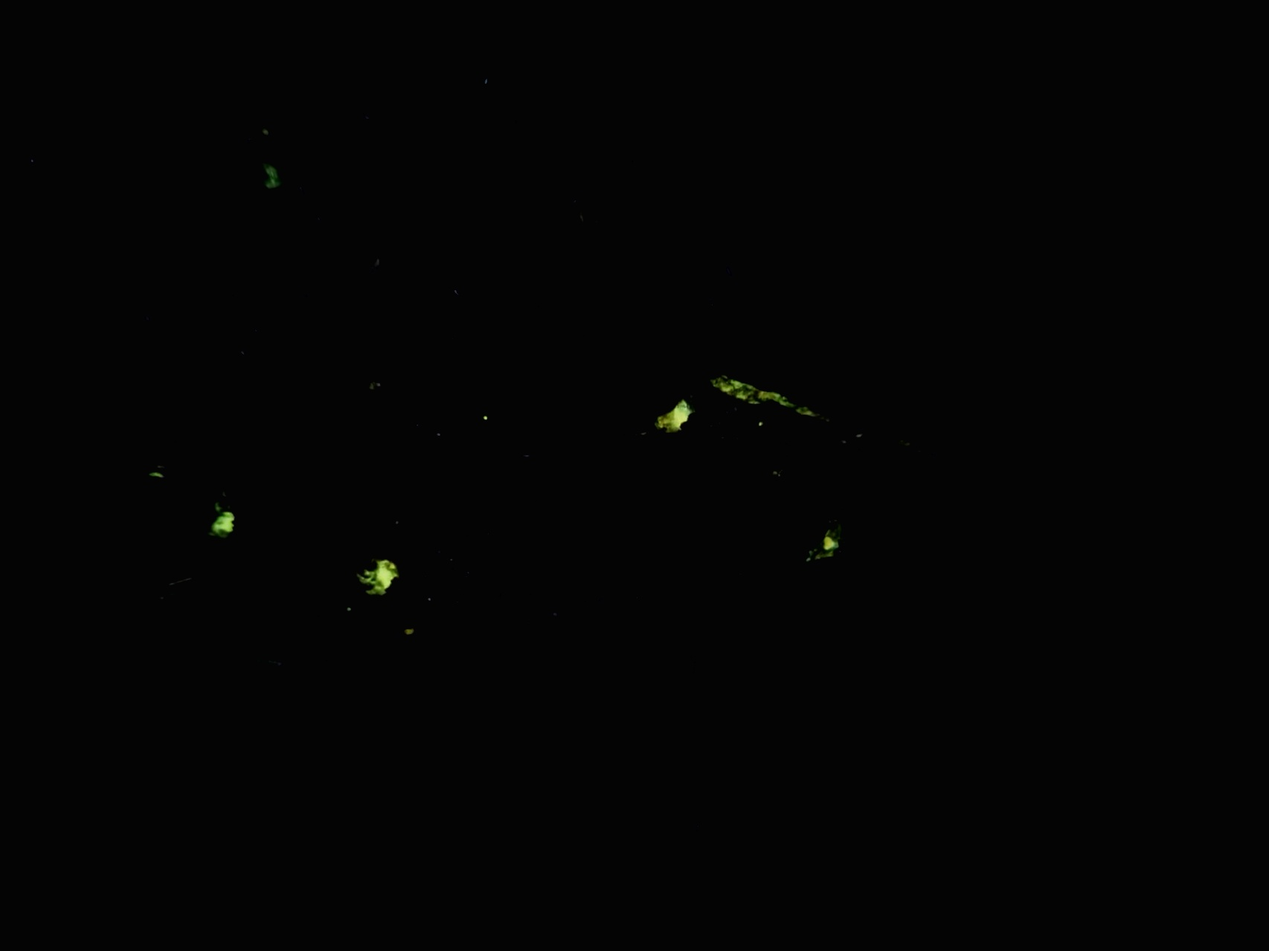Crater: (624, 369, 721, 463), (329, 535, 434, 615), (168, 479, 258, 571), (771, 496, 872, 577)
